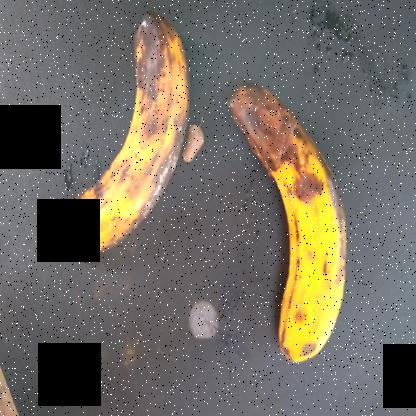rotten: (19, 0, 193, 285), (221, 54, 371, 379)
